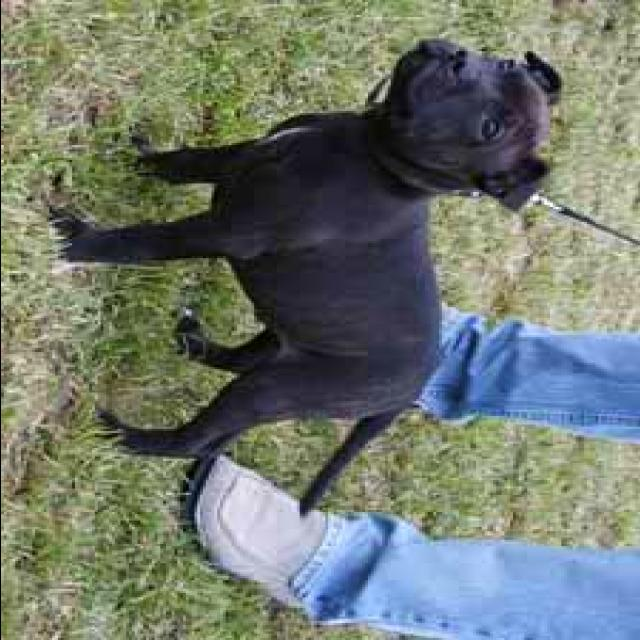staffordshire_bullterrier: (46, 35, 566, 522)
